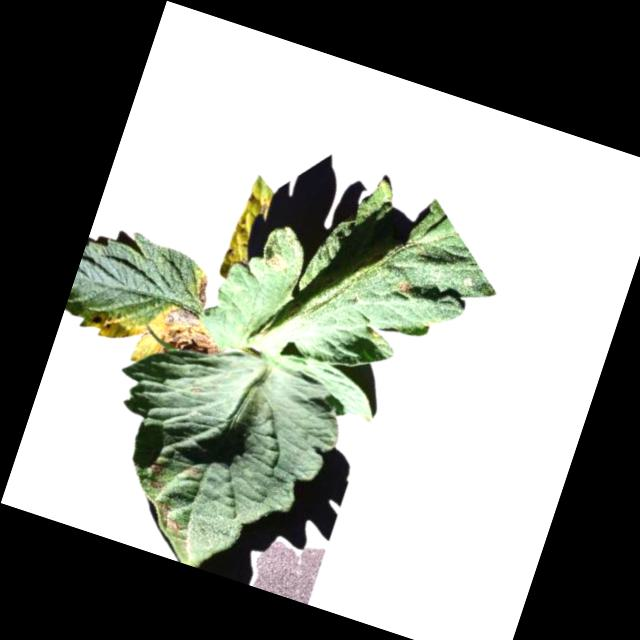Early_blight: (147, 301, 230, 374), (148, 500, 187, 534), (142, 462, 170, 493), (189, 280, 216, 311), (242, 191, 270, 217), (84, 309, 109, 334), (264, 250, 290, 274), (393, 279, 418, 300)
